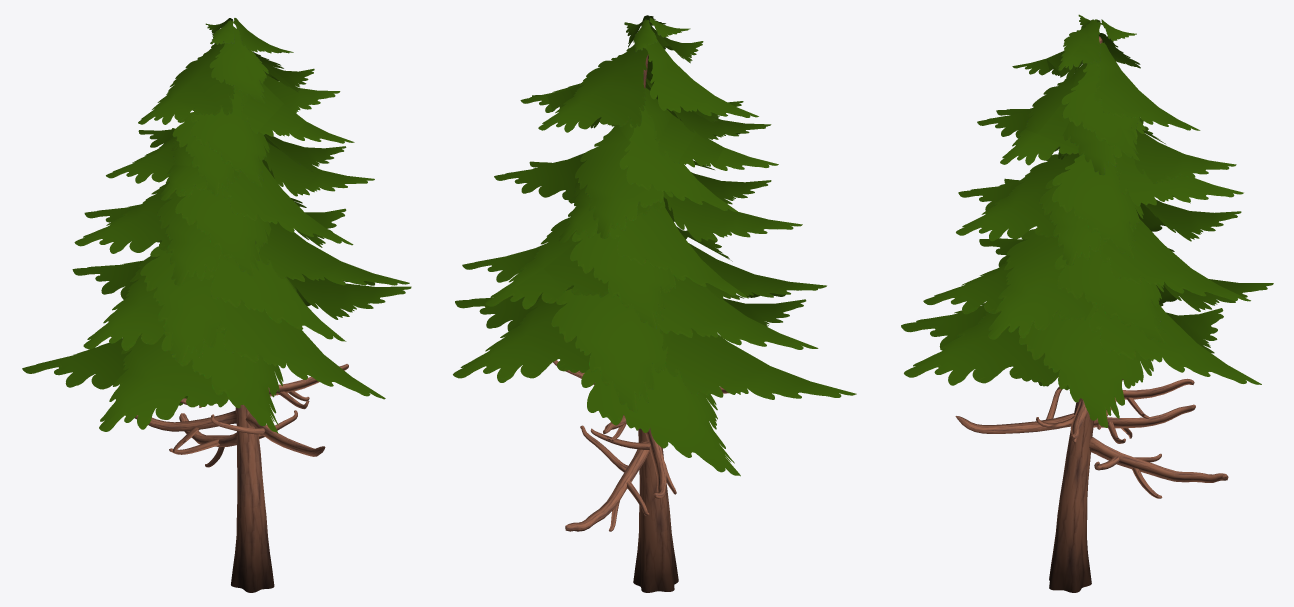
Rendered from Pine_1.glb.
3 renders of one model, left to right at view 1: azimuth 30°, elevation 25°; view 2: azimuth 150°, elevation 25°; view 3: azimuth 270°, elevation 25°, orthographic. The views are drawn at different scales.
Parts seen in each view (by area): view 1: Pine_1; view 2: Pine_1; view 3: Pine_1.
Boxes of the visible parts, x1=… form: Pine_1: x1=22, y1=18, x2=411, y2=592; Pine_1: x1=453, y1=15, x2=856, y2=592; Pine_1: x1=901, y1=14, x2=1273, y2=592.
Size of the model in its own units: 4.94 by 7.32 by 4.54.
Materials: 2 (2 with a texture image).
